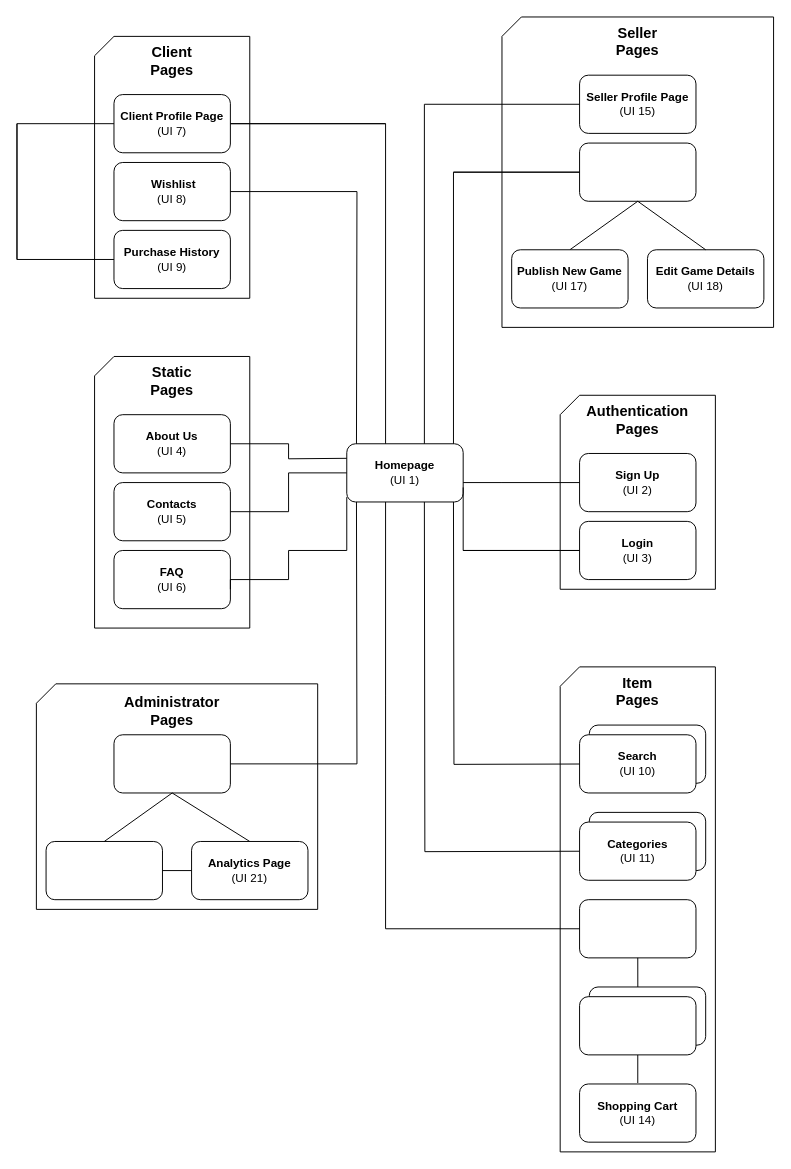
Image size: 791x1169. Some labels were removed from this diagram. The box of each missing label's shape, as (x1, y1, x2, y2) in pixels:
Game Catalog (UI 12): (579, 899, 696, 958)
Game Info (UI 13): (579, 996, 696, 1055)
Manage Games (UI 16): (579, 142, 696, 201)
Management Page (UI 19): (113, 734, 230, 793)
Reports Page (UI 20): (45, 841, 162, 900)
